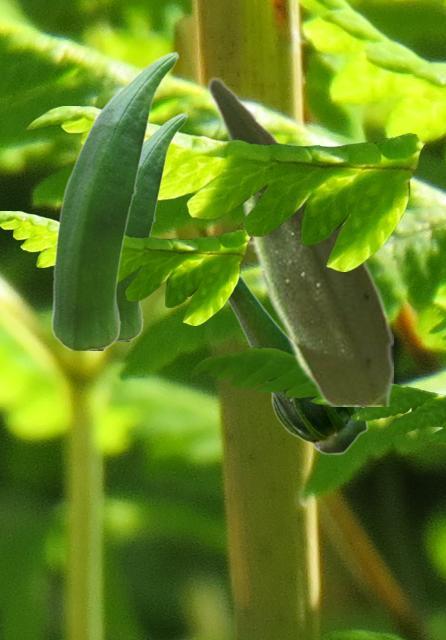okra: (206, 75, 392, 405), (50, 51, 178, 349), (228, 275, 367, 454), (117, 112, 187, 340)
